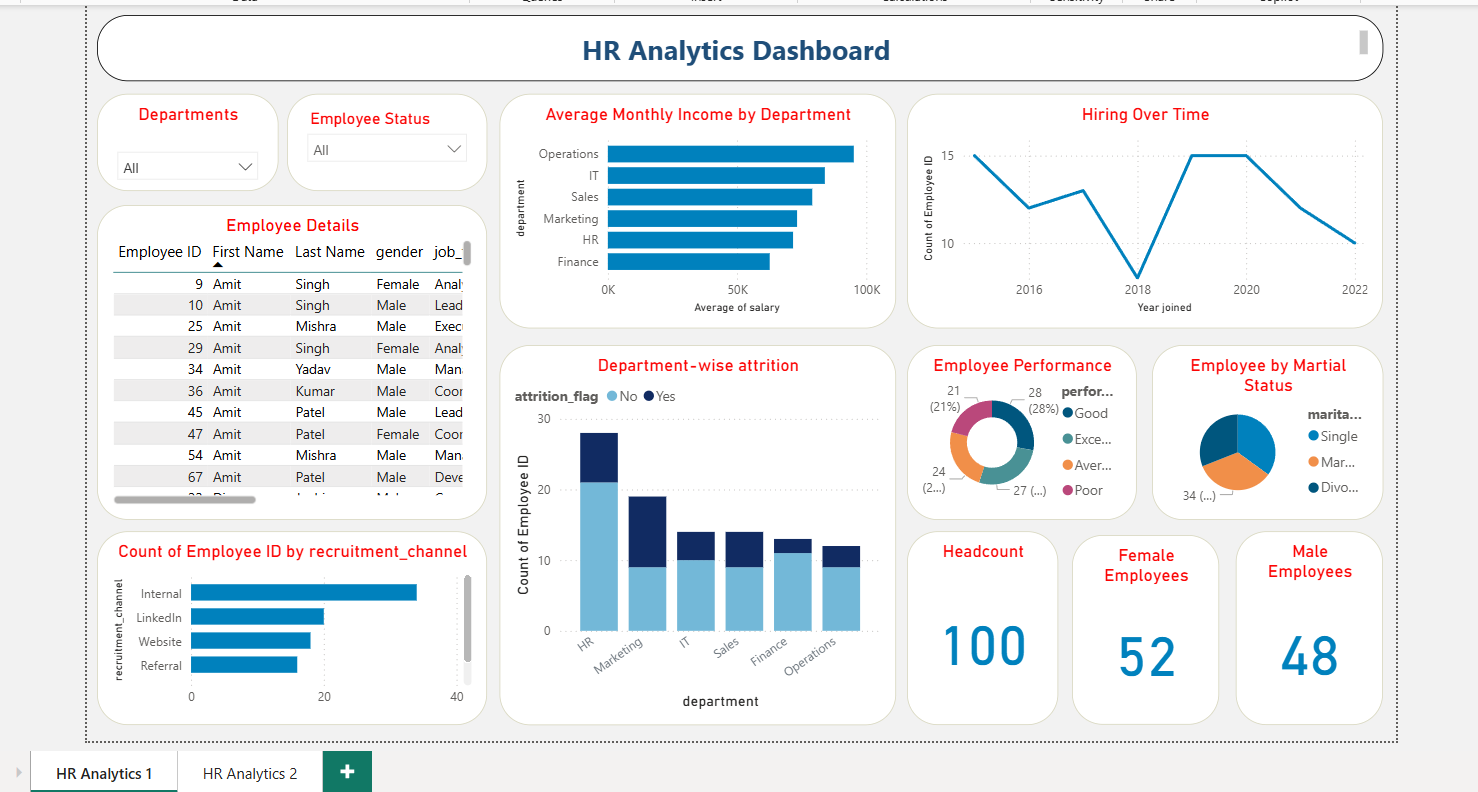

The dashboard page shown, as its layout file describes it:
{"tool":"powerbi","page":{"name":"HR Analytics 1","canvas":[1280,720],"ordinal":0},"visuals":[{"type":"columnChart","title":"Department-wise attrition","fields":{"Category":["employees.department"],"Series":["employees.attrition_flag"],"Y":["CountNonNull(employees.Employee ID)"]},"box":[403.5,332.6,387.6,371.7],"z":0},{"type":"pieChart","title":"Employee by Martial Status","fields":{"Y":["CountNonNull(employees.Employee ID)"],"Category":["employees.marital_status"]},"box":[1041.9,332.6,226.2,171.2],"z":1000},{"type":"clusteredBarChart","title":"Average Monthly Income by Department","fields":{"Category":["employees.department"],"Y":["Avg(employees.salary)"]},"box":[403.5,86.8,387.6,229.9],"z":2000},{"type":"lineChart","title":"Hiring Over Time","fields":{"Category":["employees.Year joined"],"Y":["CountNonNull(employees.Employee ID)"]},"box":[802.2,86.8,465.9,229.9],"z":3000},{"type":"donutChart","title":"Employee Performance","fields":{"Y":["CountNonNull(employees.Employee ID)"],"Category":["employees.performance_score"]},"box":[802.2,332.6,225,171.2],"z":4000},{"type":"slicer","title":"Departments","fields":{"Values":["employees.department","employees.gender"]},"box":[9.8,86.8,177.3,95.4],"z":5000},{"type":"card","title":"Headcount","fields":{"Values":["CountNonNull(employees.Employee ID)"]},"box":[802.2,514.8,148,189.5],"z":6000},{"type":"clusteredBarChart","fields":{"Category":["employees.recruitment_channel"],"Y":["CountNonNull(employees.Employee ID)"]},"box":[9.8,514.8,381.5,189.5],"z":7000},{"type":"tableEx","title":"Employee Details","fields":{"Values":["employees.Employee ID","employees.First Name","employees.Last Name","employees.gender","employees.job_title","employees.Year joined","employees.marital_status","employees.status","employees.working_hours","employees.salary"]},"box":[9.8,195.7,381.5,308.2],"z":8000},{"type":"textbox","box":[9.8,9.8,1258.3,64.8],"z":9000},{"type":"slicer","fields":{"Values":["employees.Employee Status"]},"box":[195.7,86.8,195.7,95.4],"z":10000},{"type":"card","title":"Male Employees","fields":{"Values":["CountNonNull(employees.Employee ID)"]},"box":[1123.8,514.8,144.3,189.5],"z":11000},{"type":"card","title":"Female Employees","fields":{"Values":["CountNonNull(employees.Employee ID)"]},"box":[963.6,518.5,144.3,185.9],"z":12000}]}

Visuals, with their boxes on the page's 1280x720 design canvas (x1, y1, x2, y2). These are canvas units, not pixel positions in the 1478x792 screenshot, which may show the page scaled, cropped or inside an application window:
"Department-wise attrition" columnChart: locate(404, 333, 791, 704)
"Employee by Martial Status" pieChart: locate(1042, 333, 1268, 504)
"Average Monthly Income by Department" clusteredBarChart: locate(404, 87, 791, 317)
"Hiring Over Time" lineChart: locate(802, 87, 1268, 317)
"Employee Performance" donutChart: locate(802, 333, 1027, 504)
"Departments" slicer: locate(10, 87, 187, 182)
"Headcount" card: locate(802, 515, 950, 704)
clusteredBarChart - employees.recruitment_channel x CountNonNull(employees.Employee ID): locate(10, 515, 391, 704)
"Employee Details" tableEx: locate(10, 196, 391, 504)
textbox: locate(10, 10, 1268, 75)
slicer - employees.Employee Status: locate(196, 87, 391, 182)
"Male Employees" card: locate(1124, 515, 1268, 704)
"Female Employees" card: locate(964, 518, 1108, 704)
